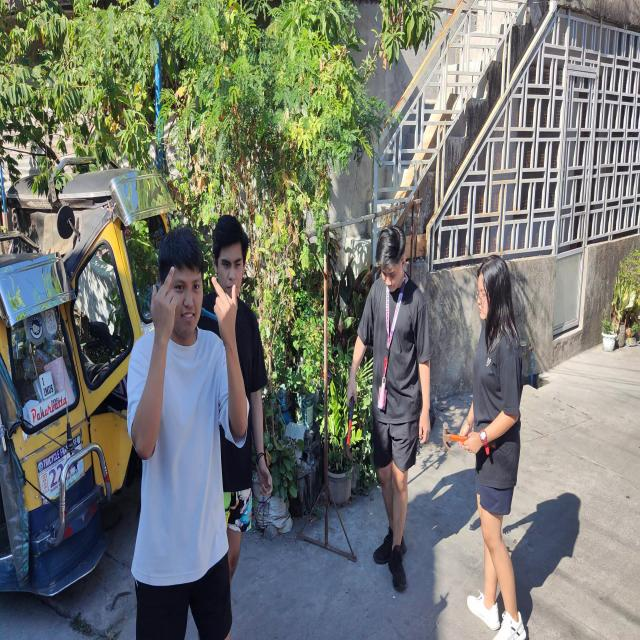hammer: (443, 422, 496, 453), (342, 396, 354, 461)
